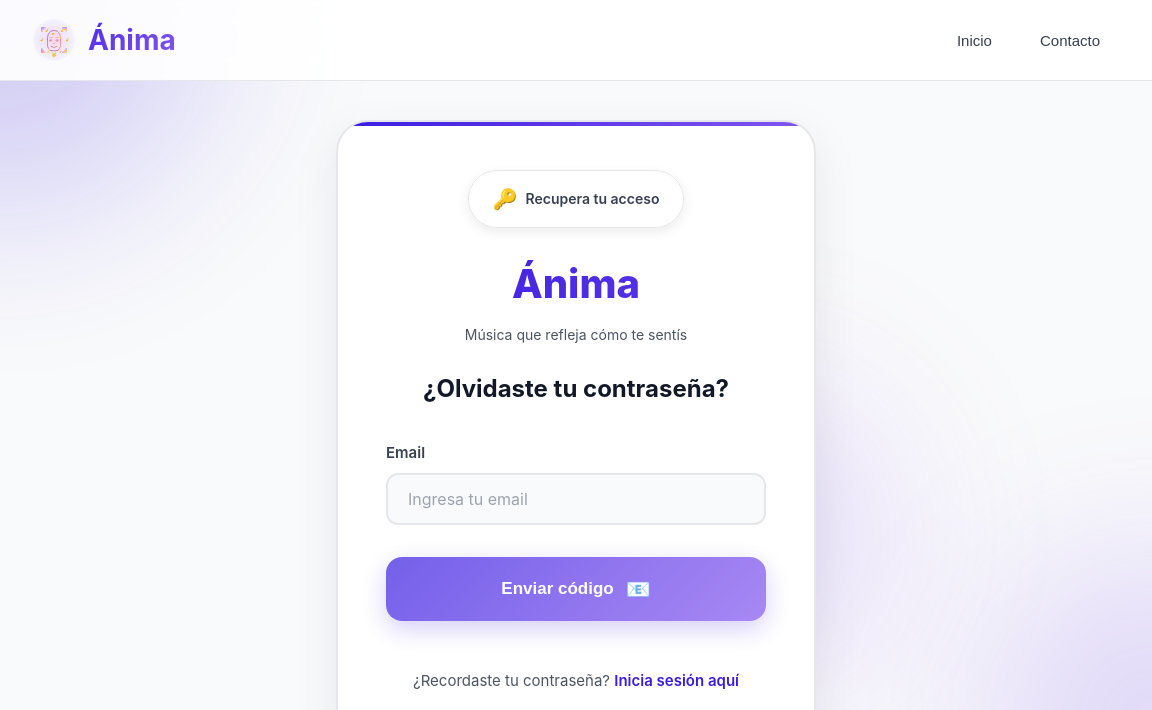
Test case: ForgotPassword › shows success UI when requestPasswordReset returns success
Type "a@b.com" into the field with placeholder "Ingresa tu email" at (576,499), box [386,473,766,525]
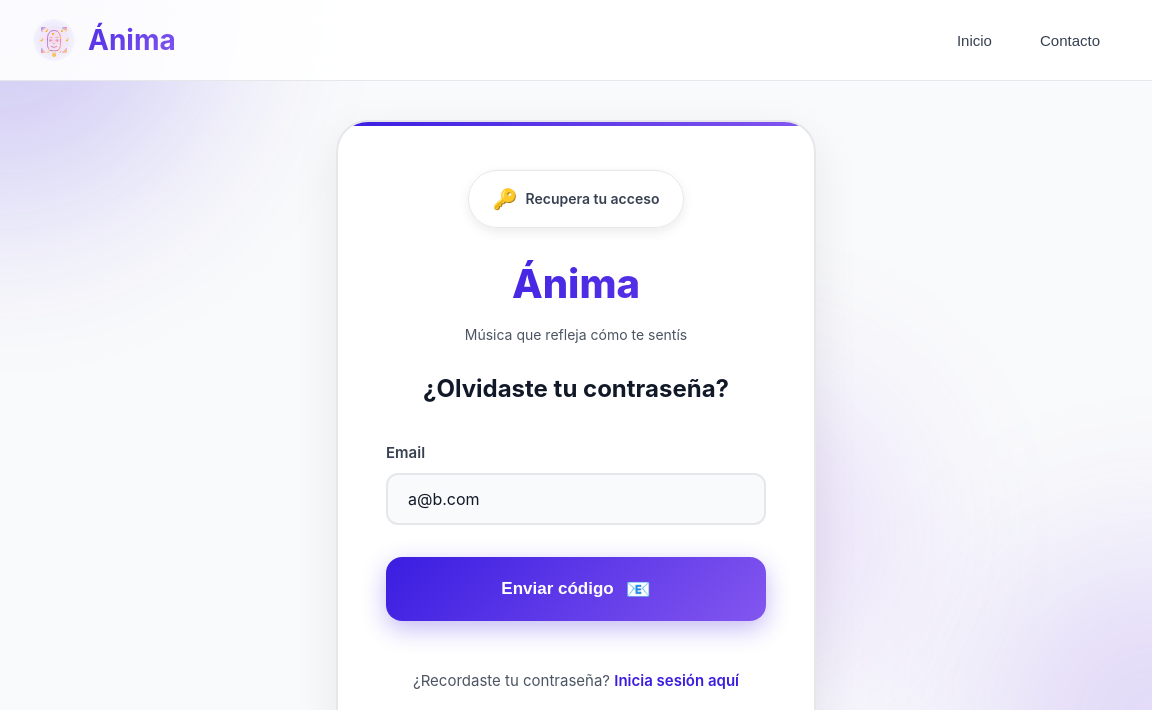
Click the button "Enviar código 📧" at (576,589), box [386,557,766,621]
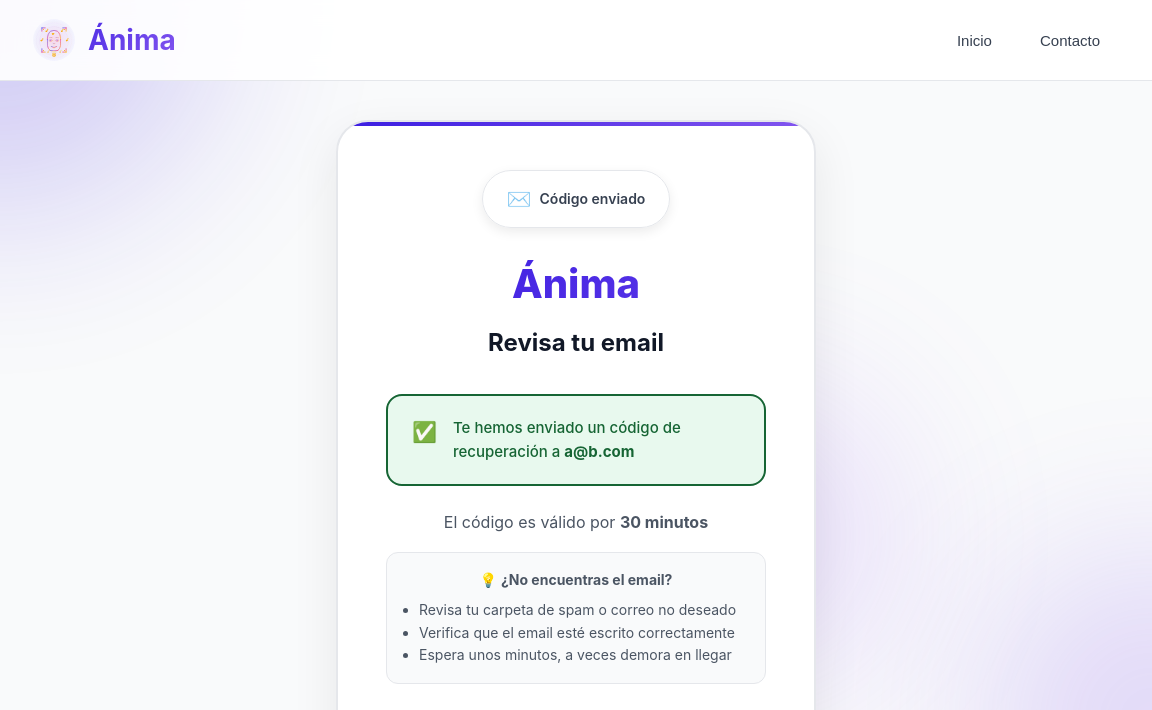
Now the heading "Revisa tu email" is shown, box [488,328,664,357]
Now the text "Código enviado" is shown, box [540,188,645,210]
